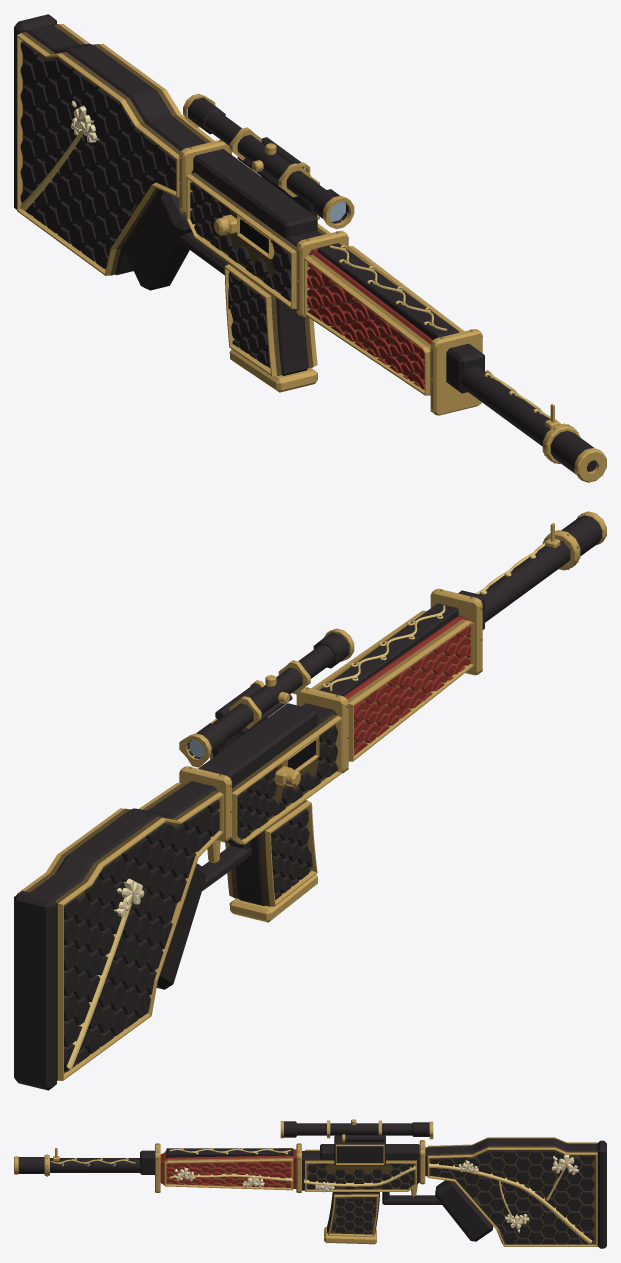
The model's file is w_dmr@dmr_nighttide.glb.
3 renders of one model, top to bottom at view 1: azimuth 30°, elevation 25°; view 2: azimuth 150°, elevation 25°; view 3: azimuth 270°, elevation 25°, orthographic. The views are drawn at different scales.
Visible parts, largest first — view 1: stock_wzA__lac__p2a2526, guard_wzN__gold__pc4a056, guard_wzA__red__p8a2e27, body_wzB__lac__p2a2526, stock_wzN__gold__pc4a056, barrel_wzB__lac__p2a2526, scope_wzN__lac__p2a2526, grip_wzB__lac__p2a2526, body_wzA__lac__p2a2526, mag_wzN__gold__pc4a056, guard_wzB__lac__p2a2526, mag_wzA__lac__p2a2526 (+12 smaller); view 2: stock_wzA__lac__p2a2526, stock_wzB__lac__p2a2526, guard_wzA__red__p8a2e27, stock_wzN__gold__pc4a056, body_wzB__lac__p2a2526, guard_wzN__gold__pc4a056, scope_wzN__lac__p2a2526, barrel_wzB__lac__p2a2526, body_wzA__lac__p2a2526, guard_wzB__lac__p2a2526, mag_wzN__gold__pc4a056, mag_wzA__lac__p2a2526 (+9 smaller); view 3: stock_wzA__lac__p2a2526, scope_wzN__lac__p2a2526, guard_wzA__red__p8a2e27, stock_wzB__gnd__p5e4c2c, barrel_wzB__lac__p2a2526, stock_wzN__gold__pc4a056, body_wzA__lac__p2a2526, grip_wzB__lac__p2a2526, body_wzB__lac__p2a2526, guard_wzN__gold__pc4a056, mag_wzA__lac__p2a2526, body_wzB__gnd__p5e4c2c (+15 smaller).
Boxes of the visible parts, x1,y1,x2,y2 form: stock_wzA__lac__p2a2526: (20, 24, 205, 275); guard_wzN__gold__pc4a056: (296, 230, 482, 415); guard_wzA__red__p8a2e27: (307, 248, 432, 389); body_wzB__lac__p2a2526: (178, 149, 322, 274); stock_wzN__gold__pc4a056: (17, 24, 231, 275); barrel_wzB__lac__p2a2526: (446, 343, 596, 474); scope_wzN__lac__p2a2526: (188, 97, 348, 223); grip_wzB__lac__p2a2526: (125, 191, 191, 290); body_wzA__lac__p2a2526: (190, 182, 290, 301); mag_wzN__gold__pc4a056: (224, 264, 317, 392); guard_wzB__lac__p2a2526: (317, 243, 458, 339); mag_wzA__lac__p2a2526: (228, 272, 269, 365); stock_wzA__lac__p2a2526: (30, 781, 219, 1071); stock_wzB__lac__p2a2526: (14, 890, 56, 1090); guard_wzA__red__p8a2e27: (344, 615, 470, 755); stock_wzN__gold__pc4a056: (17, 766, 231, 1080); body_wzB__lac__p2a2526: (198, 703, 336, 890); guard_wzN__gold__pc4a056: (296, 588, 482, 773); scope_wzN__lac__p2a2526: (187, 632, 349, 758); barrel_wzB__lac__p2a2526: (458, 515, 602, 629); body_wzA__lac__p2a2526: (237, 725, 337, 838); guard_wzB__lac__p2a2526: (319, 603, 458, 696); mag_wzN__gold__pc4a056: (225, 800, 317, 922); mag_wzA__lac__p2a2526: (271, 809, 312, 899); stock_wzA__lac__p2a2526: (425, 1139, 597, 1244); scope_wzN__lac__p2a2526: (284, 1121, 429, 1165); guard_wzA__red__p8a2e27: (160, 1149, 296, 1188); stock_wzB__gnd__p5e4c2c: (427, 1138, 597, 1245); barrel_wzB__lac__p2a2526: (18, 1150, 154, 1174); stock_wzN__gold__pc4a056: (419, 1137, 597, 1246); body_wzA__lac__p2a2526: (308, 1163, 413, 1189); grip_wzB__lac__p2a2526: (435, 1180, 493, 1241); body_wzB__lac__p2a2526: (302, 1144, 441, 1204); guard_wzN__gold__pc4a056: (155, 1143, 301, 1192); mag_wzA__lac__p2a2526: (332, 1197, 375, 1233); body_wzB__gnd__p5e4c2c: (305, 1150, 416, 1189).
Size of the model in its own units: 0.1112 by 0.346 by 1.49.
